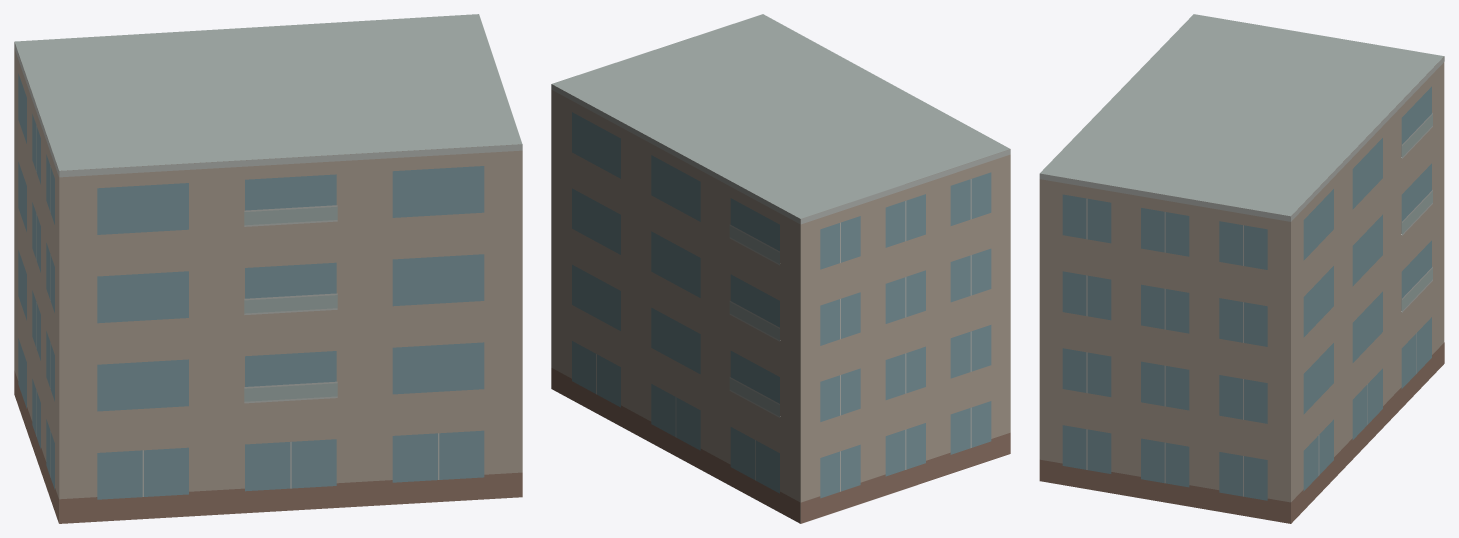
Rendered from survey-upis-32591087.glb.
3 renders of one model, left to right at view 1: azimuth 30°, elevation 25°; view 2: azimuth 150°, elevation 25°; view 3: azimuth 270°, elevation 25°, orthographic. The views are drawn at different scales.
Visible parts, largest first — view 1: survey-upis-32591087.tmp; view 2: survey-upis-32591087.tmp; view 3: survey-upis-32591087.tmp.
Part boxes in pixels (x1=…): survey-upis-32591087.tmp: x1=14, y1=14, x2=522, y2=523; survey-upis-32591087.tmp: x1=551, y1=14, x2=1010, y2=523; survey-upis-32591087.tmp: x1=1039, y1=14, x2=1444, y2=523.
Size of the model in its own units: 18.77 by 13.3 by 15.87.
